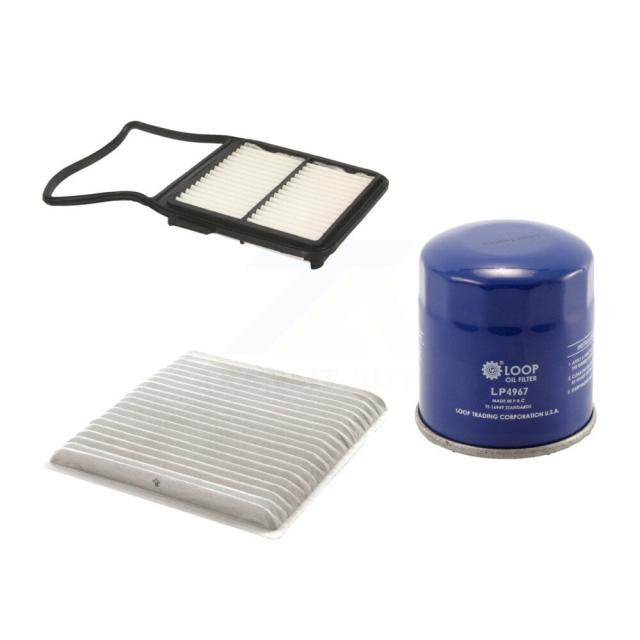air_filter: (27, 338, 392, 549), (28, 126, 390, 253)
oil_filter: (405, 213, 599, 468)
